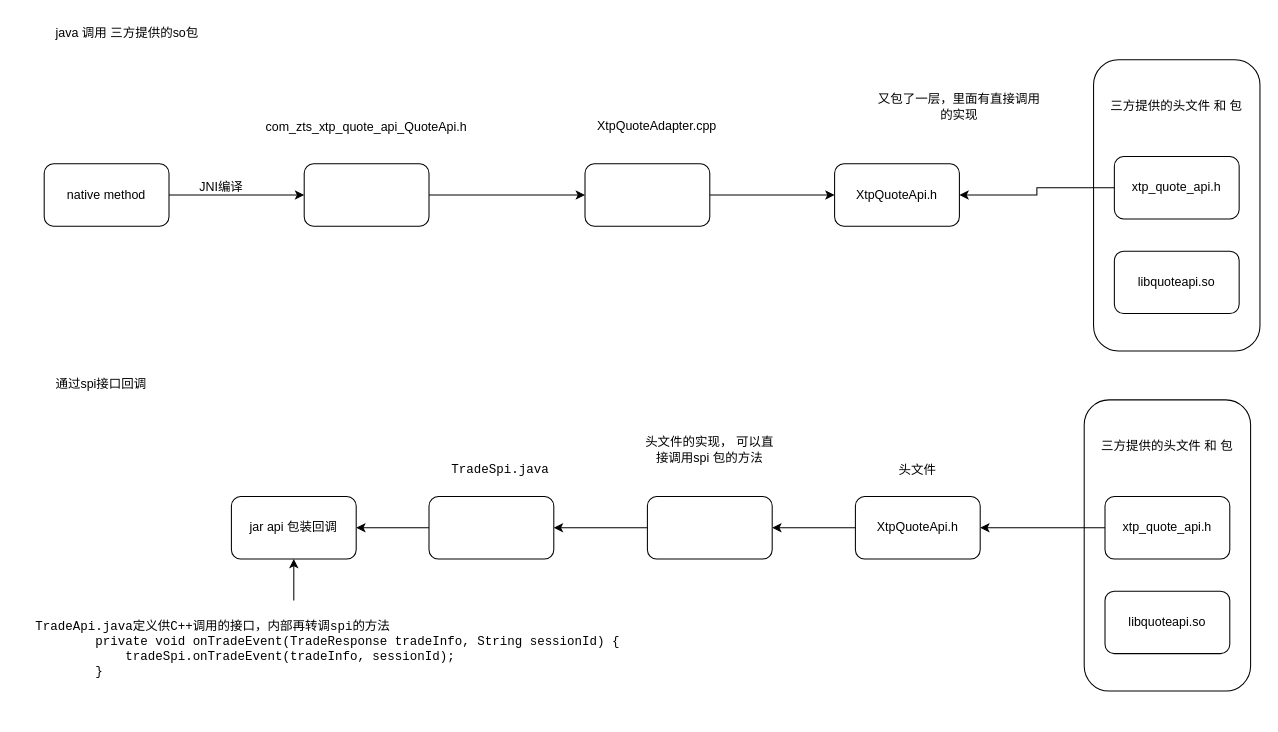
Image size: 1278x732. Some labels were removed from this diagram. Here are the shapes that lost their labels. From the top down, the centre of each, then its label:
At point (366, 194): "java的头文件".
At point (647, 194): "java头文件的实现 cpp".
At point (491, 527): "jar 包 spi实现".
At point (709, 527): "XtpQuoteApi.cpp".
